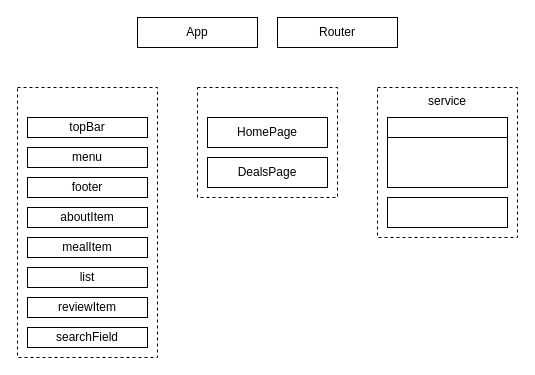
The diagram is 535 pixels wide and 375 high, and some of its shapes have lost their labels. Each missing label, with the box of its shape:
categorise, deals, recomenations, reiews: (386, 136, 508, 188)
components: (16, 86, 158, 358)
data: (386, 116, 508, 138)
dataManeger: (386, 196, 508, 228)
pages: (196, 86, 338, 198)
